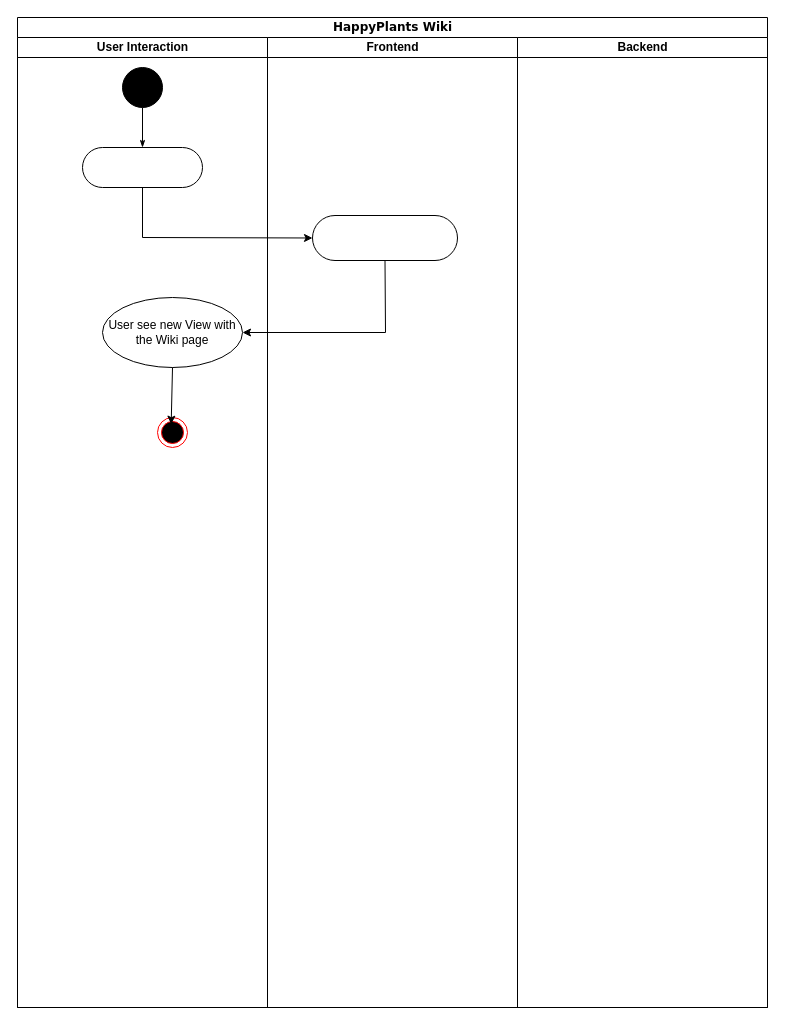
Image size: 785x1025. Some labels were removed from this diagram. Each missing label, with the box of its shape:
a new window opens with the Wiki page: (312, 214, 458, 260)
User push the back Button: (82, 146, 202, 188)
